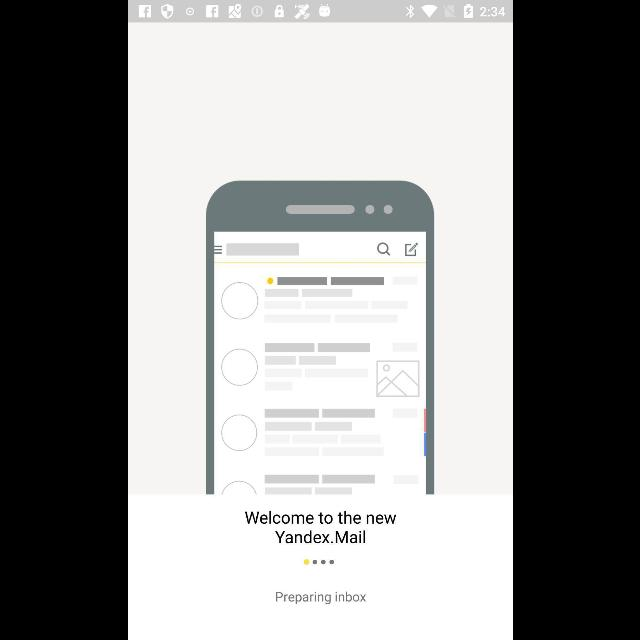image: (204, 180, 434, 496)
pageindicator: (302, 559, 334, 565)
text: (244, 512, 396, 544), (275, 592, 365, 604)
uppertaskbar: (128, 1, 512, 23)
